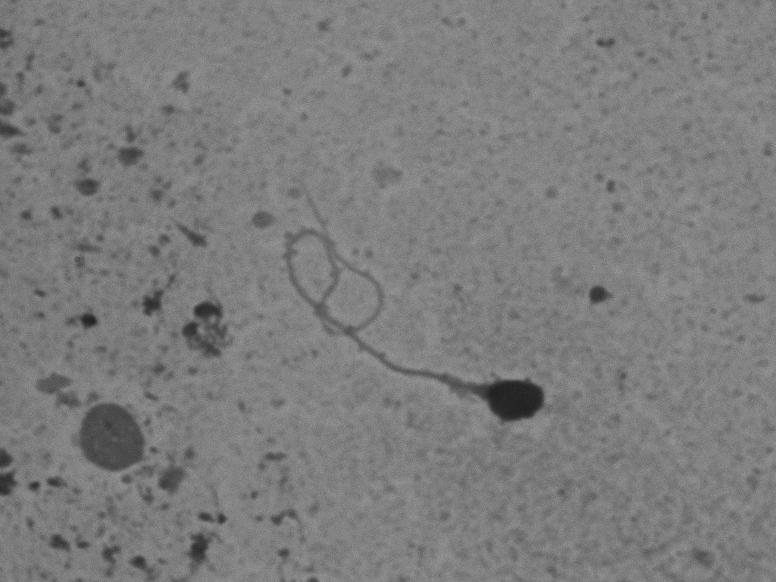Abnormal: (259, 183, 561, 467)
